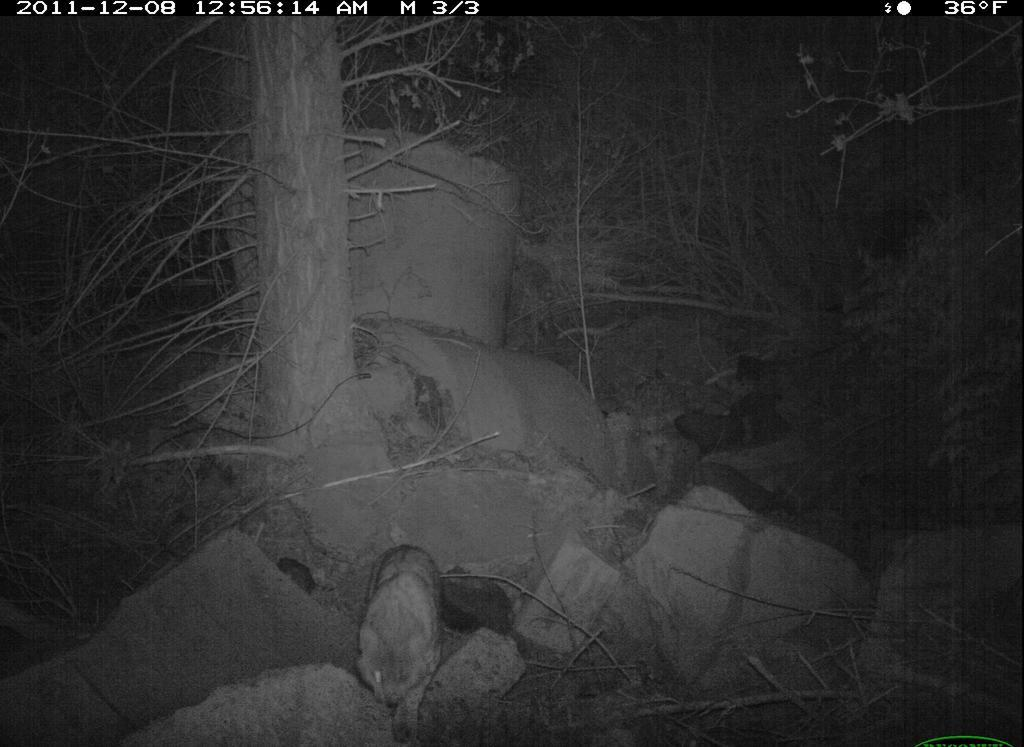bobcat: (354, 542, 452, 745)
